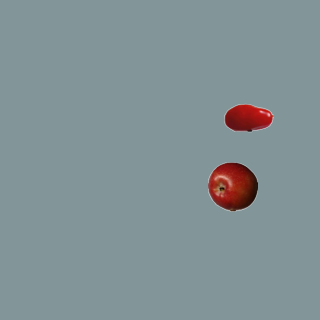Apple Braeburn: (207, 161, 257, 211)
Tomato 2: (223, 92, 273, 142)
